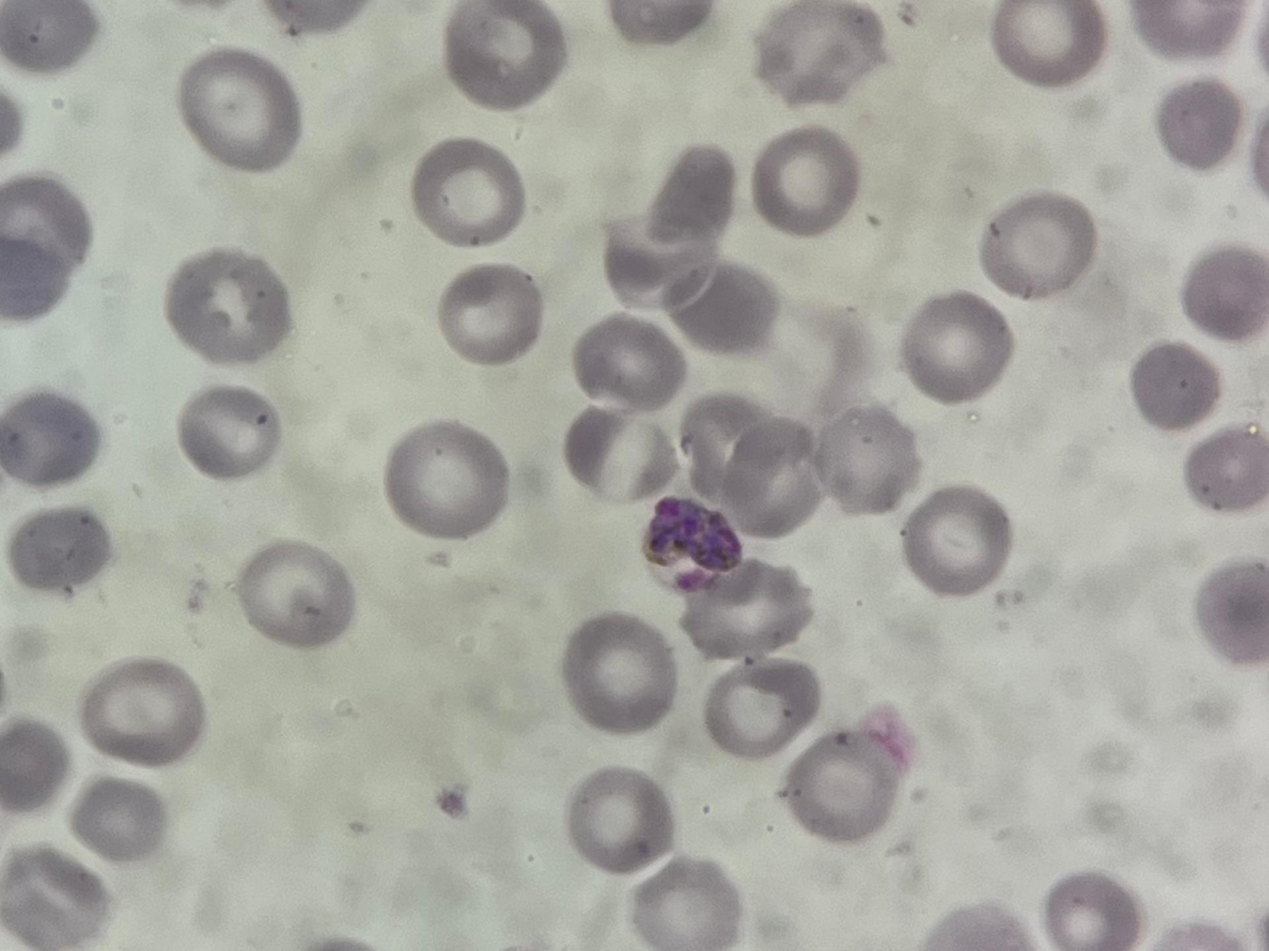Infected: (646, 499, 745, 596)
Uninfected: (178, 48, 301, 170), (167, 248, 292, 362), (79, 658, 205, 769), (677, 559, 813, 660), (781, 728, 902, 841), (754, 2, 884, 107), (390, 424, 510, 537), (561, 615, 675, 732), (703, 420, 820, 534), (443, 1, 564, 108), (0, 178, 89, 321), (981, 192, 1098, 298), (235, 543, 353, 648), (410, 138, 527, 243), (901, 486, 1010, 595), (901, 293, 1011, 401), (436, 261, 543, 370), (813, 406, 920, 513), (751, 128, 860, 233), (600, 216, 716, 314), (566, 766, 673, 872), (703, 660, 818, 758), (573, 314, 689, 408), (2, 847, 109, 947), (666, 262, 778, 356), (785, 301, 879, 413), (640, 144, 737, 248), (568, 410, 680, 500), (177, 386, 283, 480), (681, 391, 774, 498), (631, 856, 738, 947), (1, 390, 100, 488), (7, 506, 111, 599), (991, 1, 1105, 85), (1182, 247, 1269, 342), (71, 776, 167, 862), (1131, 341, 1219, 432), (1194, 559, 1269, 664), (1157, 79, 1242, 169), (1184, 424, 1269, 511), (1044, 872, 1141, 948), (3, 0, 97, 73), (1, 716, 69, 812), (1133, 1, 1242, 57)
